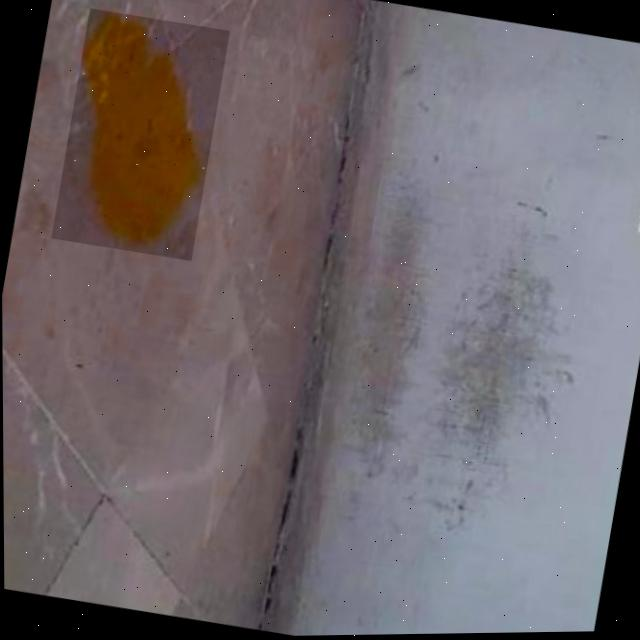spillage: (81, 10, 205, 249)
